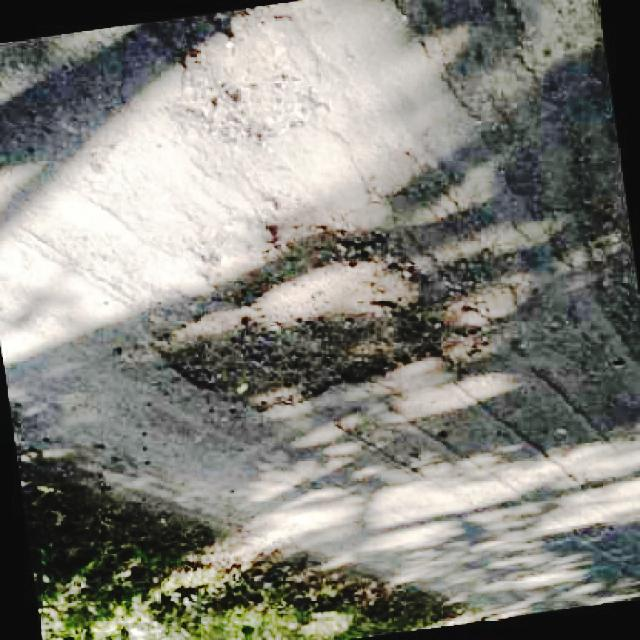pothole: (143, 219, 489, 406), (169, 12, 309, 132)
